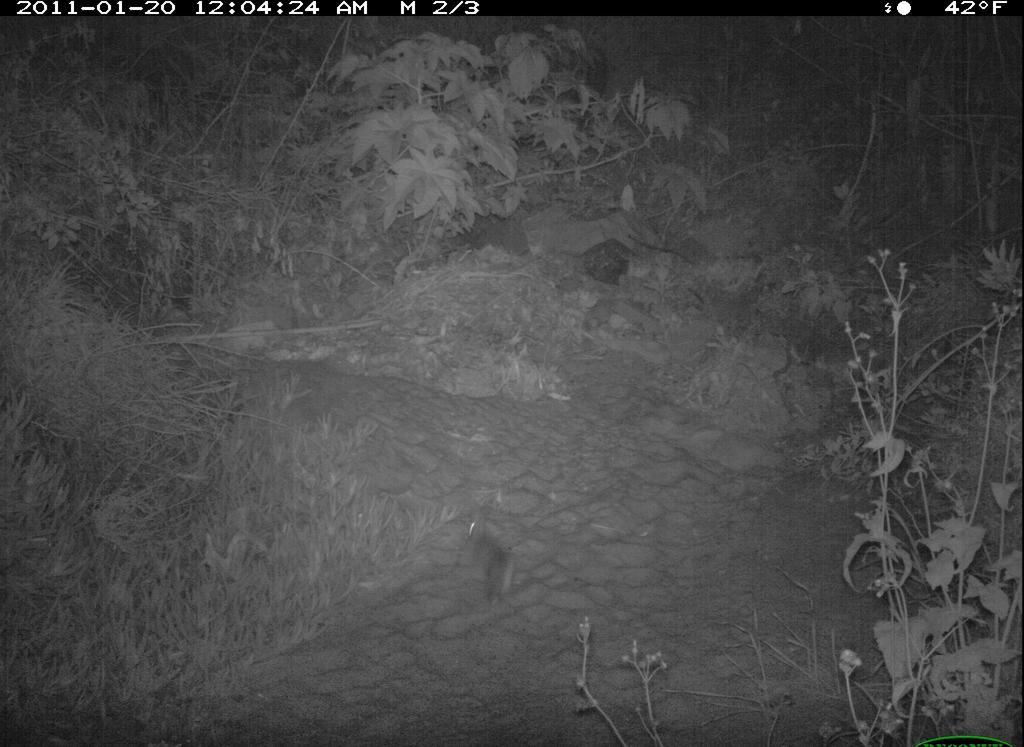rabbit: (454, 500, 527, 619)
